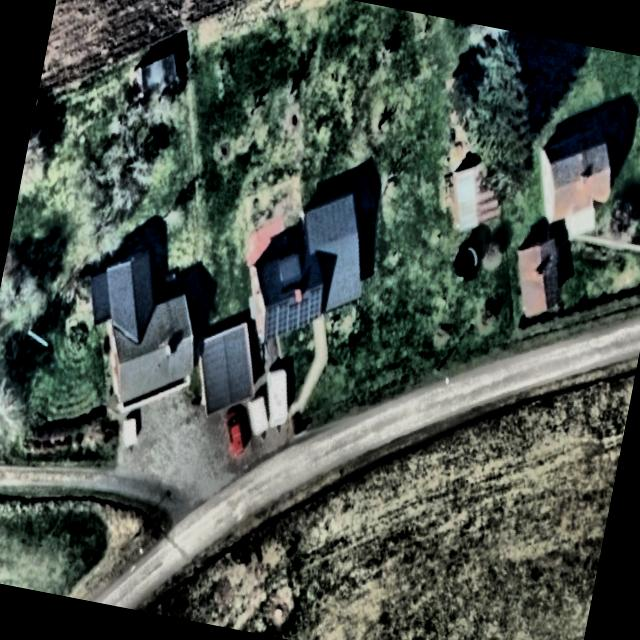roof_pv: (262, 293, 299, 351), (292, 284, 328, 342)
